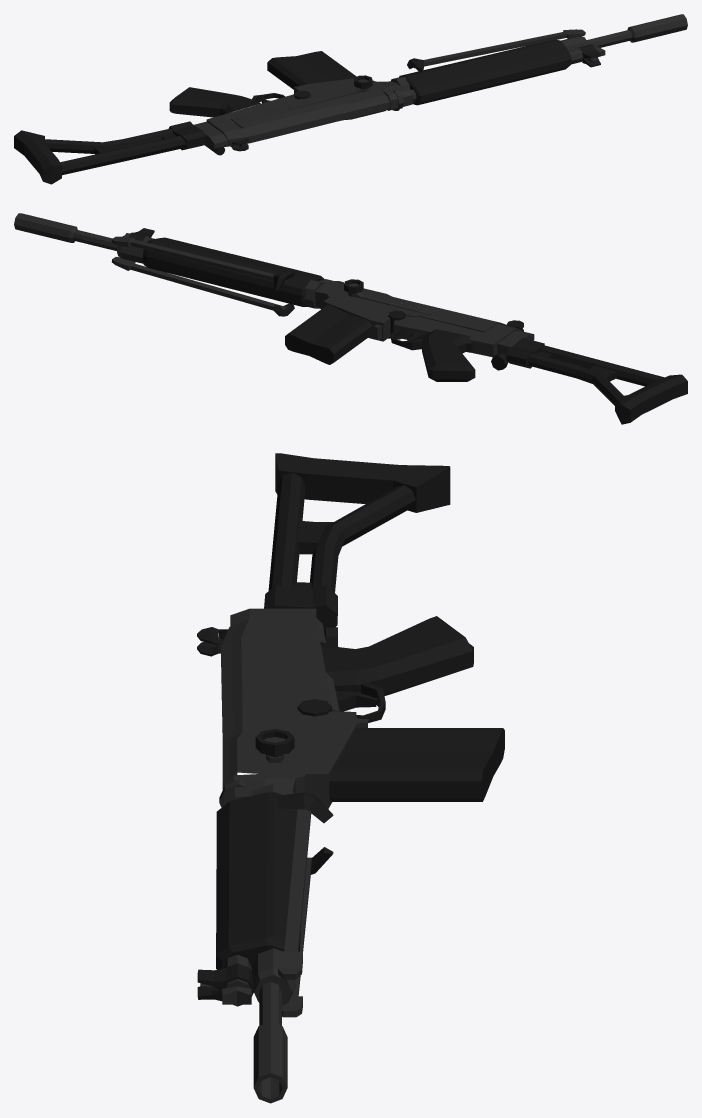
Rendered from FAL_3D.glb.
3 renders of one model, top to bottom at view 1: azimuth 30°, elevation 25°; view 2: azimuth 150°, elevation 25°; view 3: azimuth 270°, elevation 25°, orthographic. The views are drawn at different scales.
Visible parts, largest first — view 1: Cube, Cube.001; view 2: Cube, Cube.001; view 3: Cube, Cube.001.
Part boxes in pixels (x1,y1,x2,y2): Cube: (14,14,687,184); Cube.001: (267,51,356,89); Cube: (14,213,687,424); Cube.001: (285,304,372,364); Cube: (197,453,473,1103); Cube.001: (329,728,504,801).
Size of the model in its own units: 1.11 by 0.0664 by 0.2317.
Materials: 1 (1 with a texture image).
